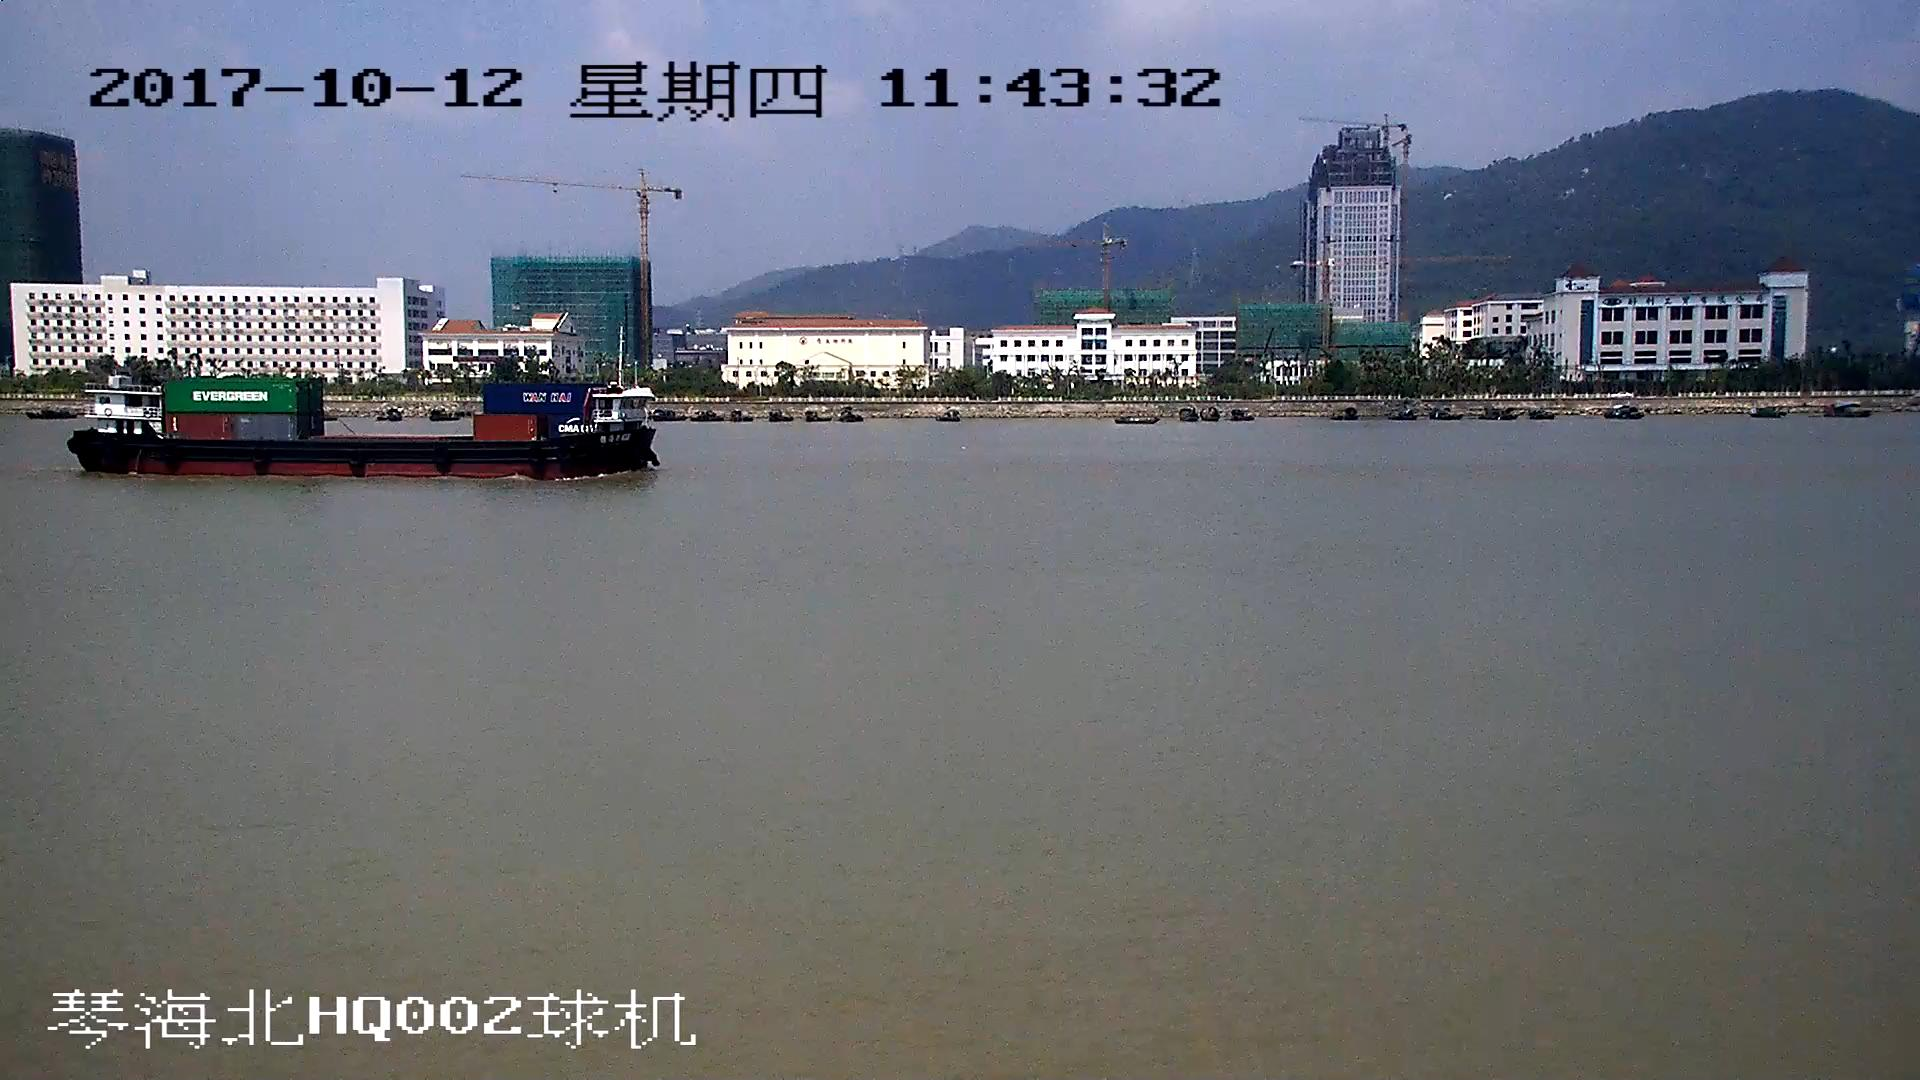container ship: (72, 366, 657, 479)
